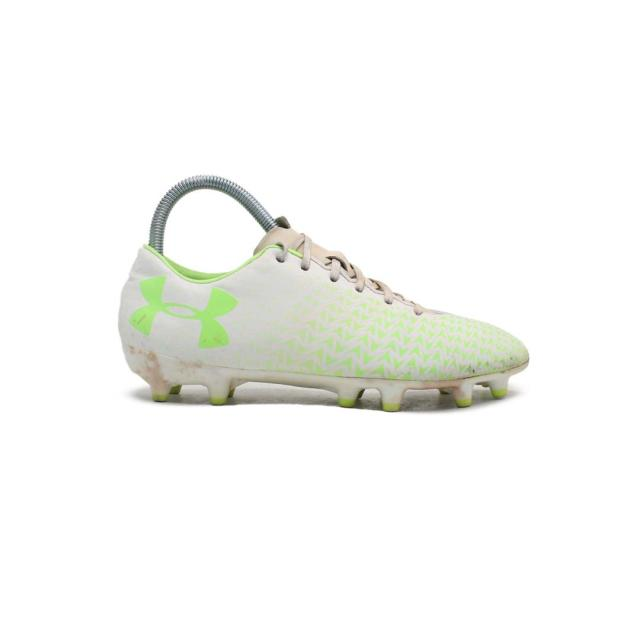heel: (117, 246, 180, 352)
midsole: (129, 347, 530, 412)
uppersole: (153, 214, 527, 381)
